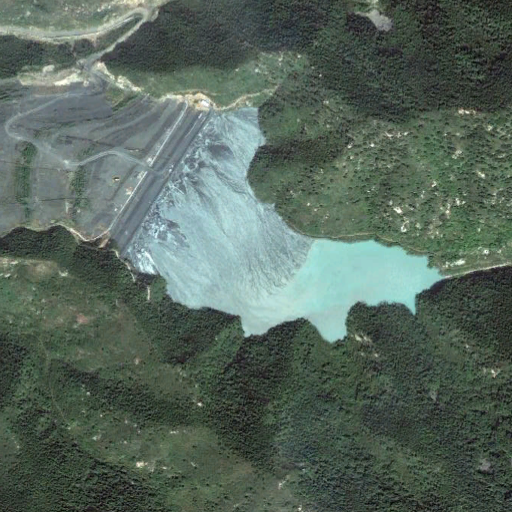tp: (107, 103, 444, 343)
